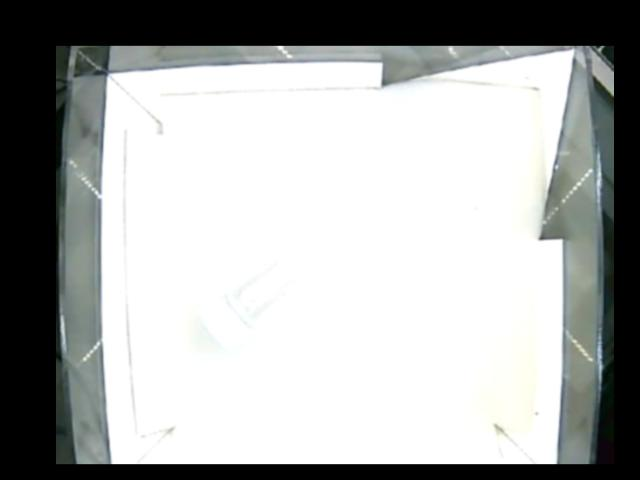Bottle: (198, 254, 302, 349)
